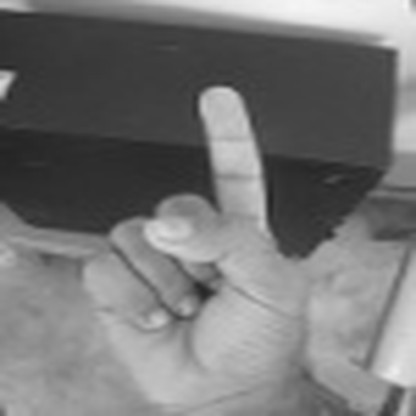d: (75, 86, 310, 407)
